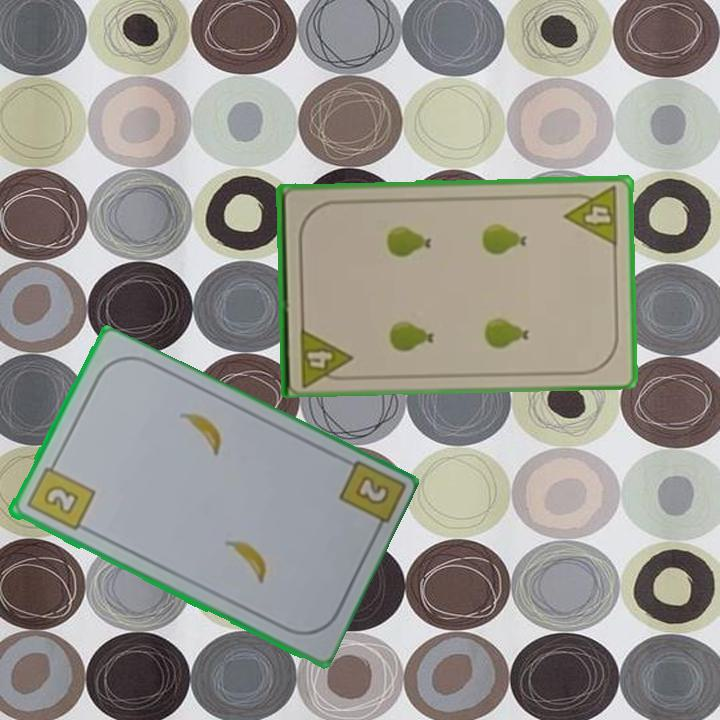2b: (22, 456, 97, 534), (355, 475, 389, 505)
4p: (561, 183, 622, 248), (296, 323, 355, 388)
